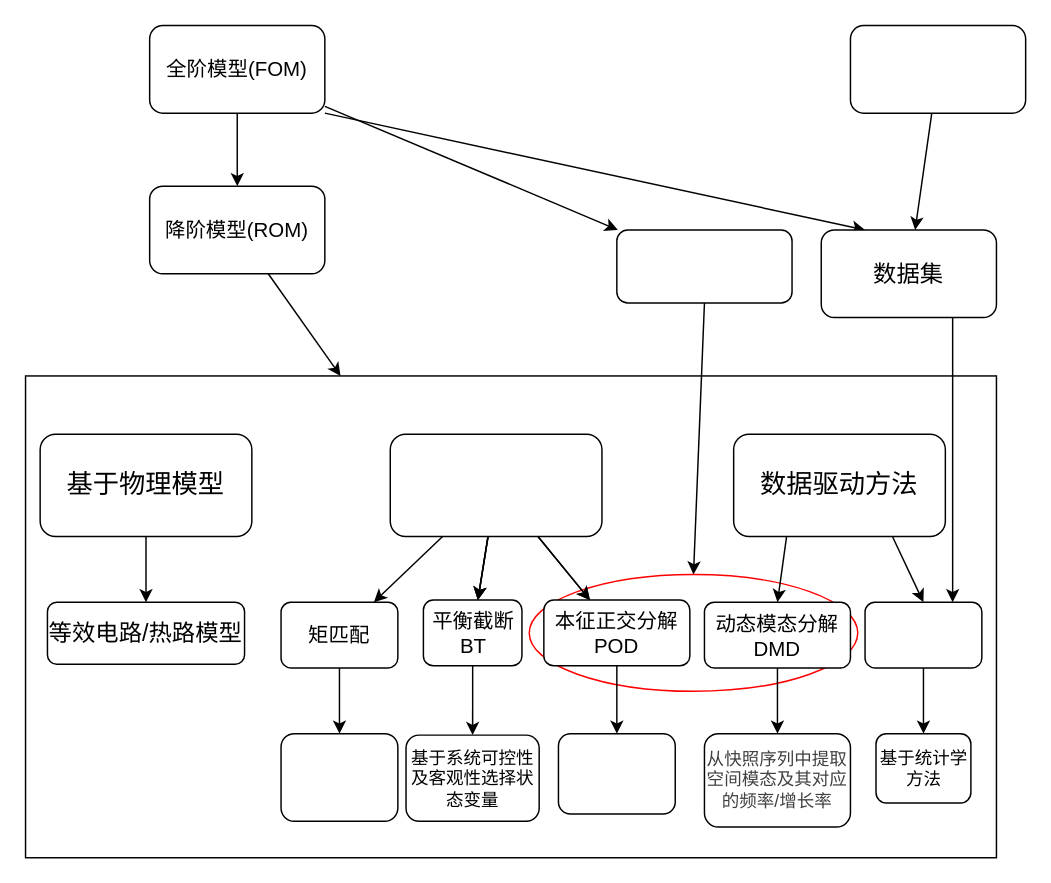
Image size: 1051x883. Some labels were removed from this diagram. Each missing label, with the box of its shape:
传递函数各阶矩在特定频率处匹配: (280, 732, 398, 821)
基于低阶投影: (389, 433, 602, 537)
数据快照: (615, 228, 792, 303)
深度学习: (864, 601, 982, 668)
现实实验: (849, 24, 1026, 113)
系统快照的SVD: (557, 732, 675, 814)
